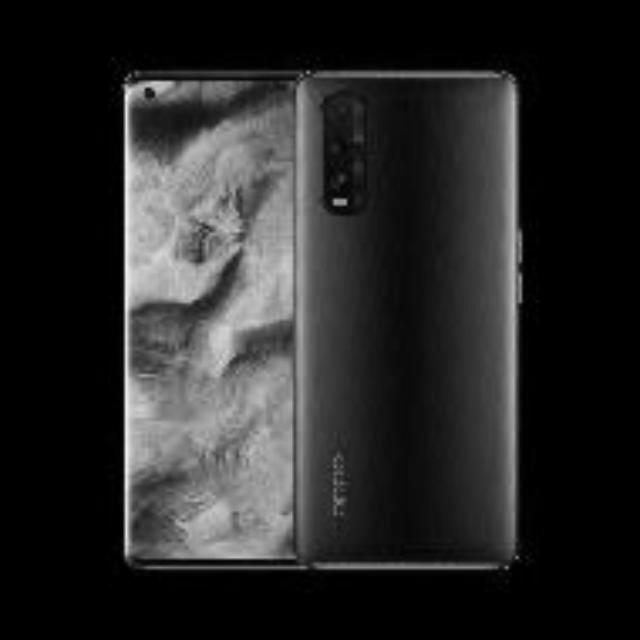fake: (119, 72, 521, 570)
